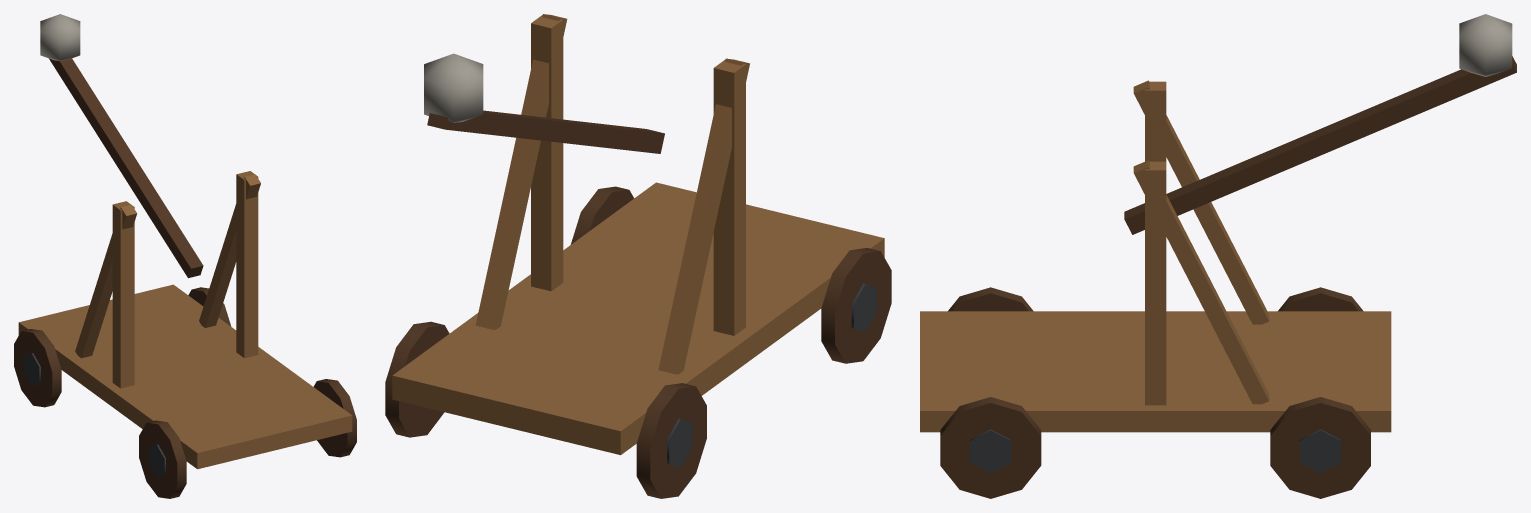
Rendered from unit_mil_catapult_a02.glb.
3 views of the same model, side by side, from view 1: azimuth 30°, elevation 25°; view 2: azimuth 150°, elevation 25°; view 3: azimuth 270°, elevation 25° (orthographic). The views are drawn at different scales.
Visible parts, largest first — view 1: body, arm, wheel_2, wheel_0, wheel_3, wheel_1; view 2: body, arm, wheel_0, wheel_2, wheel_1, wheel_3; view 3: body, arm, wheel_3, wheel_1, wheel_0, wheel_2.
Boxes of the visible parts, x1,y1,x2,y2 form: body: [18, 171, 352, 469]; arm: [40, 14, 203, 278]; wheel_2: [139, 420, 186, 498]; wheel_0: [14, 329, 61, 407]; wheel_3: [313, 379, 356, 457]; wheel_1: [188, 287, 231, 326]; body: [392, 14, 884, 455]; arm: [424, 53, 664, 153]; wheel_0: [636, 383, 706, 498]; wheel_2: [821, 248, 891, 363]; wheel_1: [385, 321, 449, 437]; wheel_3: [570, 186, 634, 244]; body: [920, 80, 1391, 432]; arm: [1124, 14, 1516, 234]; wheel_3: [940, 397, 1041, 498]; wheel_1: [1270, 397, 1370, 498]; wheel_0: [1278, 287, 1363, 311]; wheel_2: [948, 287, 1033, 311].
Size of what is drawn, in the model's own units: 2.36 by 4 by 5.07.
